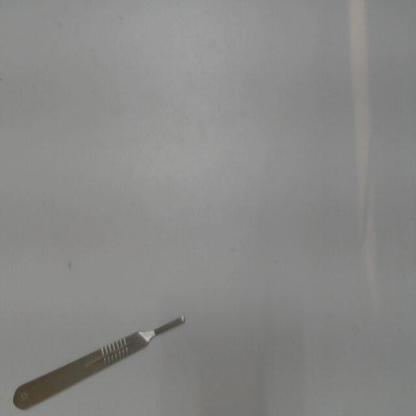No.4 BP Handle: (3, 306, 190, 415)
